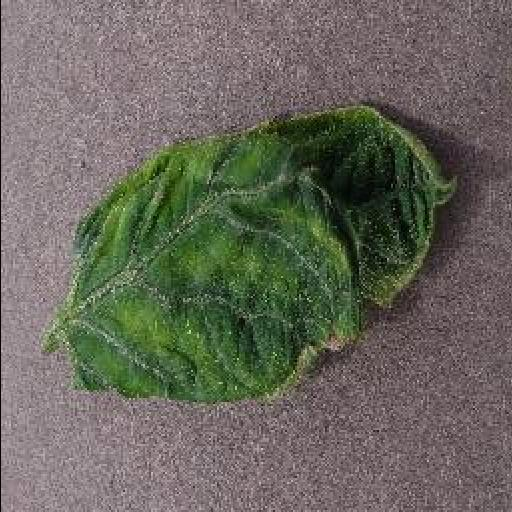disease_tomato: (64, 104, 464, 402)
